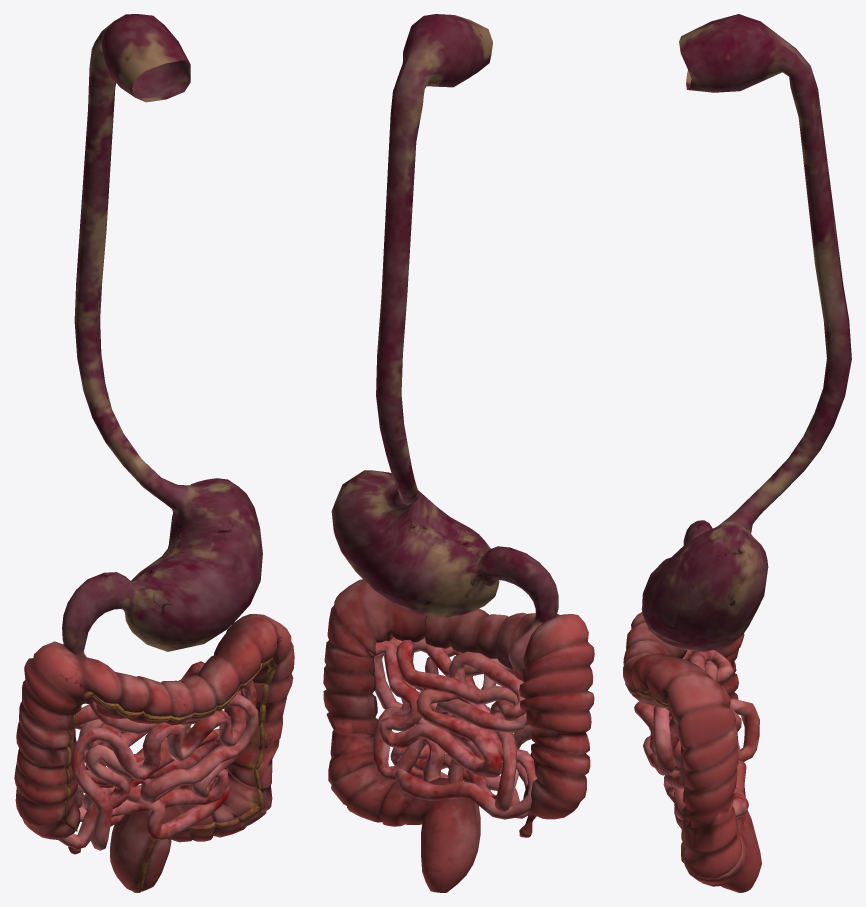
The model's file is estomago.glb.
3 renders of one model, left to right at view 1: azimuth 30°, elevation 25°; view 2: azimuth 150°, elevation 25°; view 3: azimuth 270°, elevation 25°, orthographic.
Parts seen in each view (by area): view 1: Division_1; view 2: Division_1; view 3: Division_1.
Part boxes in pixels (left/top/right/bottom): Division_1: left=14, top=14, right=294, bottom=892; Division_1: left=323, top=14, right=594, bottom=892; Division_1: left=623, top=14, right=851, bottom=892.
Size of the model in its own units: 0.3487 by 1.1 by 0.2608.
1 material, 1 textured.
